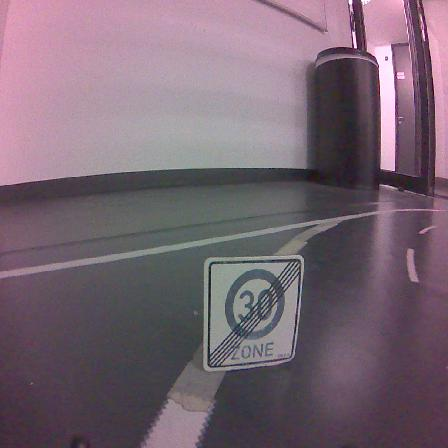30_ZONE_END: (202, 254, 303, 371)
